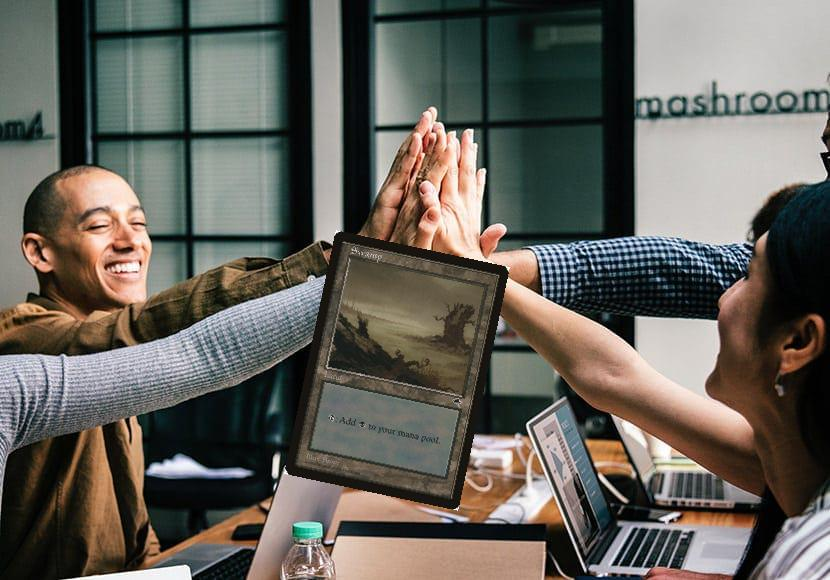mtgCard: (284, 230, 510, 511)
